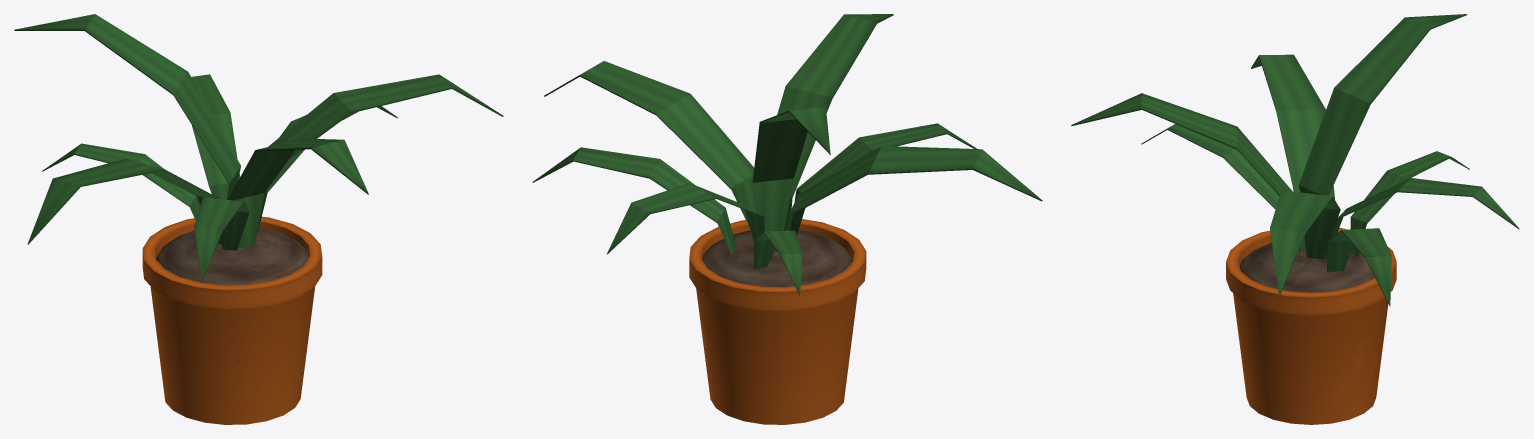
Rendered from Pointy Plant L.fbx.
The picture shows the model from 3 angles, left to right: view 1: azimuth 30°, elevation 25°; view 2: azimuth 150°, elevation 25°; view 3: azimuth 270°, elevation 25°; orthographic projection. The views are drawn at different scales.
Visible parts, largest first — view 1: flower_pot, pointyleaf_2, dirt_in_pot, pointyleaf_1, pointyleaf_4, pointyleaf_3, pointyleaf_8, pointyleaf_6, pointyleaf_7, pointyleaf_5; view 2: flower_pot, pointyleaf_4, pointyleaf_2, pointyleaf_1, pointyleaf_3, dirt_in_pot, pointyleaf_5, pointyleaf_6, pointyleaf_8, pointyleaf_7; view 3: flower_pot, pointyleaf_2, pointyleaf_3, pointyleaf_4, pointyleaf_1, dirt_in_pot, pointyleaf_5, pointyleaf_6, pointyleaf_7, pointyleaf_8.
Boxes of the visible parts, box(x1,y1,x2,y2) form: flower_pot: box(142, 216, 322, 424); pointyleaf_2: box(14, 14, 240, 199); dirt_in_pot: box(156, 227, 308, 285); pointyleaf_1: box(228, 138, 368, 248); pointyleaf_4: box(268, 74, 503, 159); pointyleaf_3: box(27, 159, 221, 244); pointyleaf_8: box(194, 197, 249, 281); pointyleaf_6: box(191, 74, 240, 199); pointyleaf_7: box(42, 143, 200, 220); pointyleaf_5: box(257, 106, 397, 232); flower_pot: box(689, 219, 866, 424); pointyleaf_4: box(544, 61, 757, 227); pointyleaf_2: box(752, 106, 830, 252); pointyleaf_1: box(777, 14, 893, 230); pointyleaf_3: box(785, 146, 1042, 230); dirt_in_pot: box(702, 229, 852, 287); pointyleaf_5: box(532, 147, 736, 254); pointyleaf_6: box(607, 183, 764, 254); pointyleaf_8: box(790, 123, 976, 234); pointyleaf_7: box(754, 230, 802, 295); flower_pot: box(1226, 227, 1396, 424); pointyleaf_2: box(1298, 14, 1466, 253); pointyleaf_3: box(1251, 54, 1334, 251); pointyleaf_4: box(1270, 190, 1340, 297); pointyleaf_1: box(1071, 93, 1300, 261); dirt_in_pot: box(1239, 242, 1374, 292); pointyleaf_5: box(1327, 228, 1391, 306); pointyleaf_6: box(1324, 178, 1519, 260); pointyleaf_7: box(1350, 151, 1469, 257); pointyleaf_8: box(1141, 124, 1304, 251).
Size of the model in its own units: 113 by 78.09 by 94.7.
